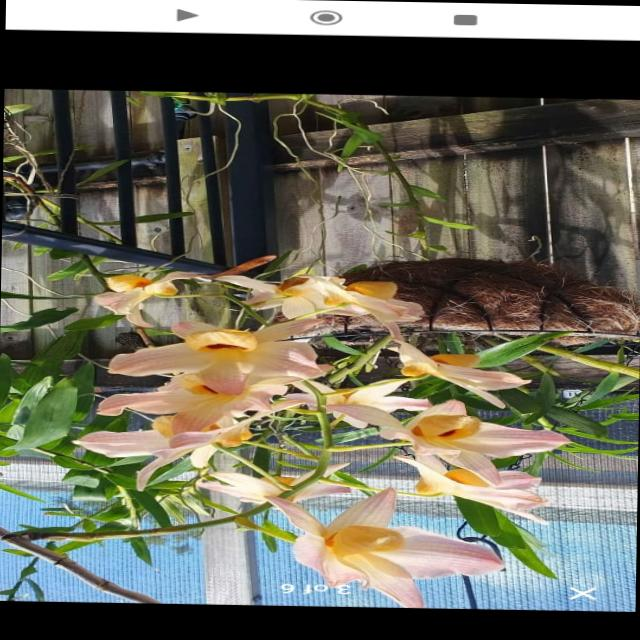flower: (268, 488, 502, 607), (108, 330, 320, 396), (390, 400, 569, 468), (99, 373, 286, 434), (75, 413, 222, 490), (227, 274, 420, 322), (397, 456, 549, 512), (392, 339, 530, 391), (95, 272, 193, 326), (327, 380, 428, 427)
leaf: (456, 497, 554, 577), (9, 375, 77, 450), (477, 336, 548, 367), (1, 310, 74, 331)
